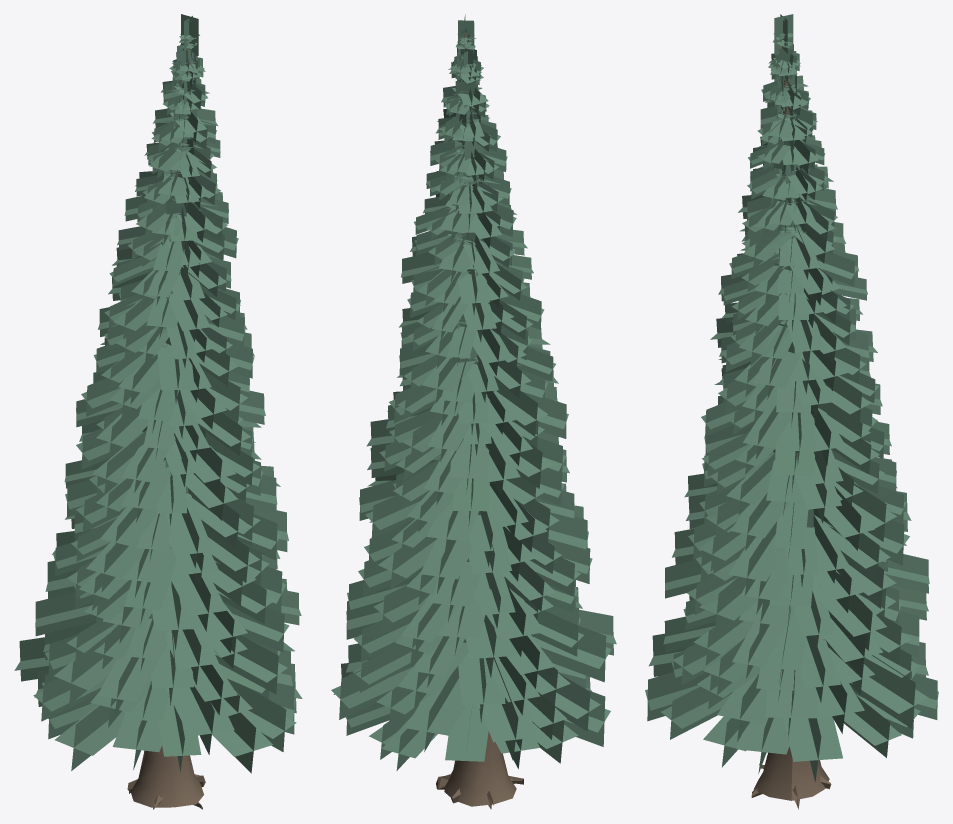
The model's file is tree_pine.glb.
3 renders of one model, left to right at view 1: azimuth 30°, elevation 25°; view 2: azimuth 150°, elevation 25°; view 3: azimuth 270°, elevation 25°, orthographic.
Visible parts, largest first — view 1: Tree_pine; view 2: Tree_pine; view 3: Tree_pine.
Part boxes in pixels (<box>): Tree_pine: <box>14,14,302,809</box>; Tree_pine: <box>331,14,616,809</box>; Tree_pine: <box>645,14,938,809</box>.
Size of the model in its own units: 4.03 by 12.09 by 4.11.
